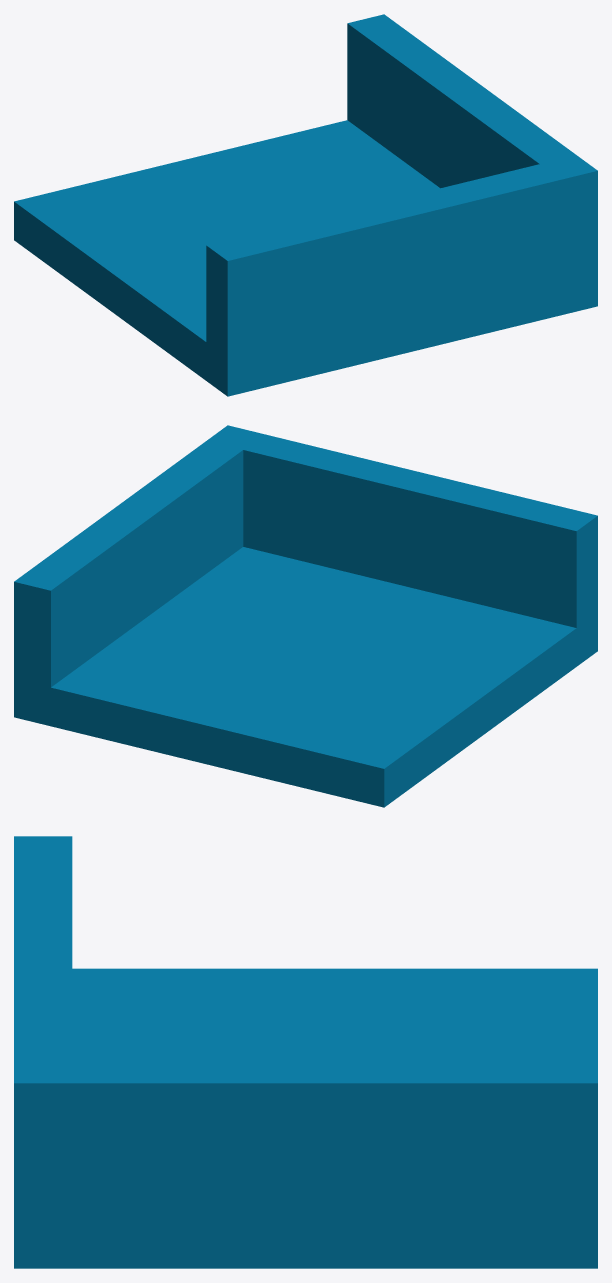
Rendered from BlueRoof_Corner_Small.glb.
3 renders of one model, top to bottom at view 1: azimuth 30°, elevation 25°; view 2: azimuth 150°, elevation 25°; view 3: azimuth 270°, elevation 25°, orthographic. The views are drawn at different scales.
Parts seen in each view (by area): view 1: roof_flat_corner_small_blue; view 2: roof_flat_corner_small_blue; view 3: roof_flat_corner_small_blue.
Boxes of the visible parts, x1,y1,x2,y2 form: roof_flat_corner_small_blue: (14,14,597,396); roof_flat_corner_small_blue: (14,425,597,807); roof_flat_corner_small_blue: (14,836,597,1268).
Size of what is drawn, in the model's own units: 2 by 0.7 by 2.
Materials: 1 (1 with a texture image).
